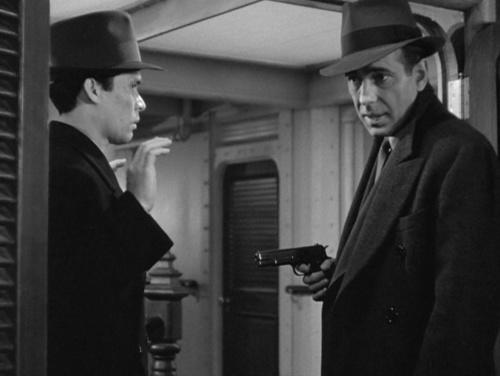Gun: (257, 244, 331, 302)
